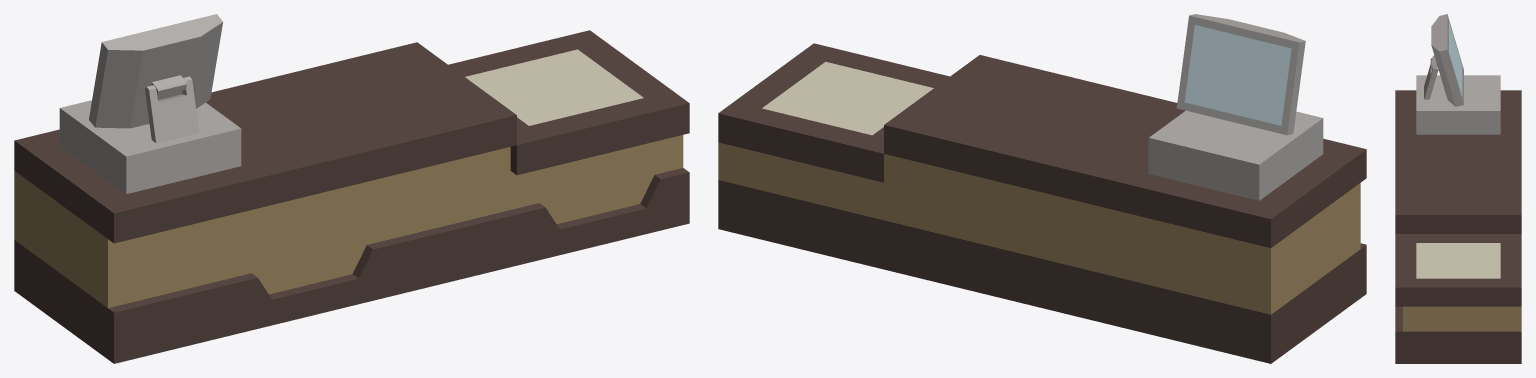
File: Counter05.fbx
The picture shows the model from 3 angles, left to right: view 1: azimuth 30°, elevation 25°; view 2: azimuth 150°, elevation 25°; view 3: azimuth 270°, elevation 25°; orthographic projection. The views are drawn at different scales.
Visible parts, largest first — view 1: Table_Large, Table_Small, CashRegister; view 2: Table_Large, Table_Small, CashRegister; view 3: Table_Small, Table_Large, CashRegister.
Boxes of the visible parts, x1,y1,x2,y2 form: Table_Large: (14, 42, 516, 363); Table_Small: (448, 30, 689, 265); CashRegister: (59, 14, 241, 194); Table_Large: (884, 55, 1366, 363); Table_Small: (718, 43, 949, 269); CashRegister: (1148, 14, 1323, 200); Table_Small: (1395, 234, 1521, 363); Table_Large: (1395, 90, 1521, 233); CashRegister: (1416, 14, 1500, 134).
Bounding box in the file's own units: 4 × 1.89 × 1.2.
1 material, 1 textured.
